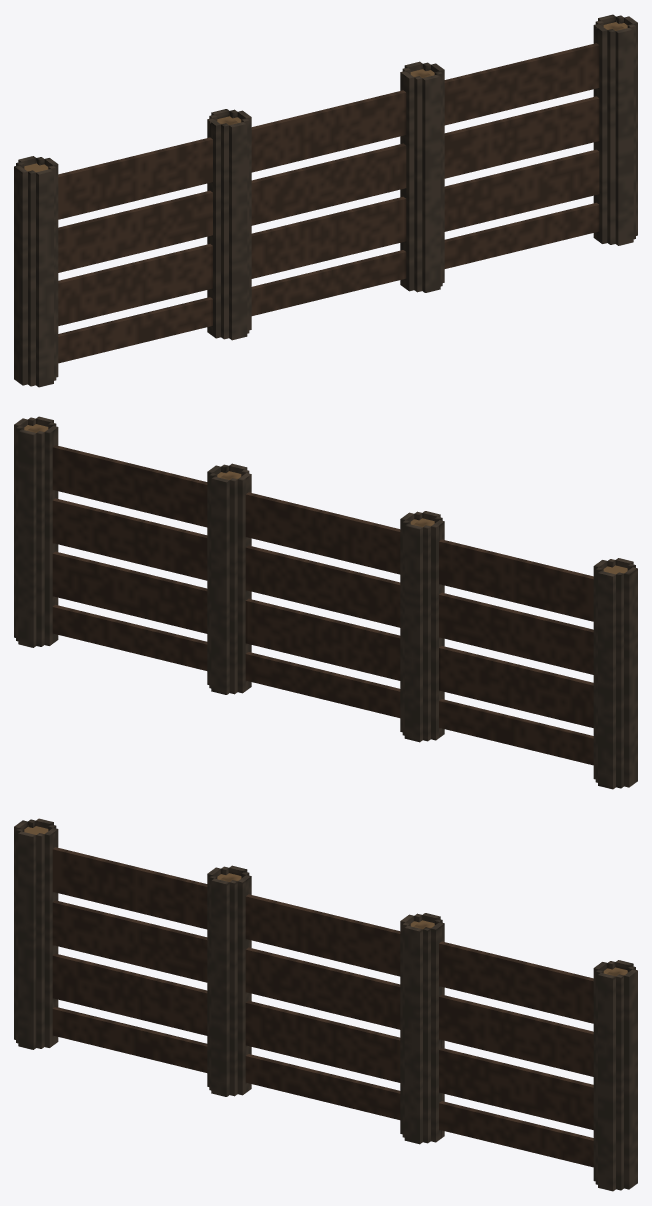
The model's file is P_NADMORSKI_3_S.dae.
The picture shows the model from 3 angles, top to bottom: view 1: azimuth 30°, elevation 25°; view 2: azimuth 150°, elevation 25°; view 3: azimuth 330°, elevation 25°; orthographic projection.
Parts seen in each view (by area): view 1: Content; view 2: Content; view 3: Content.
Boxes of the visible parts, left/top/right/bottom form: Content: left=14, top=14, right=637, bottom=387; Content: left=14, top=416, right=637, bottom=789; Content: left=14, top=818, right=637, bottom=1191.
Bounding box in the file's own units: 121 × 40 × 7.
1 material, 1 textured.
